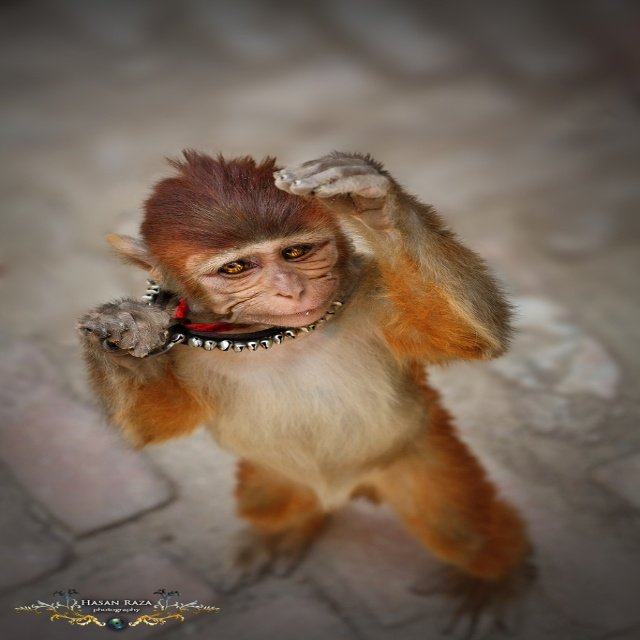Monkey: (73, 146, 538, 639)
